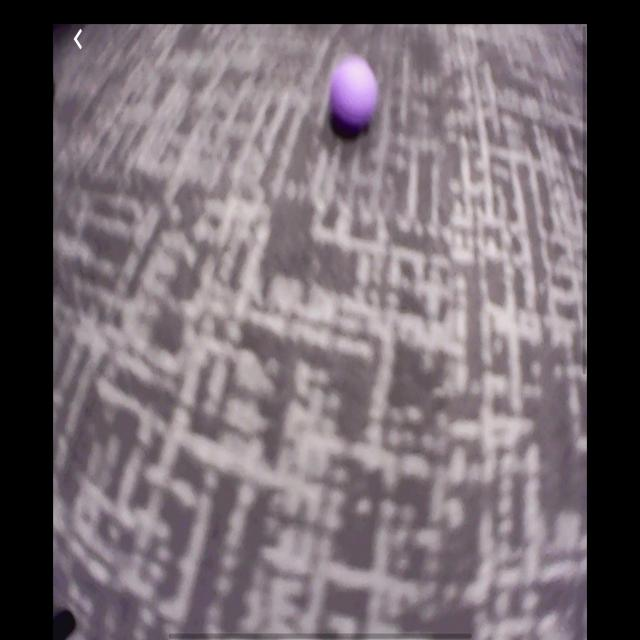ball: (328, 53, 380, 140)
